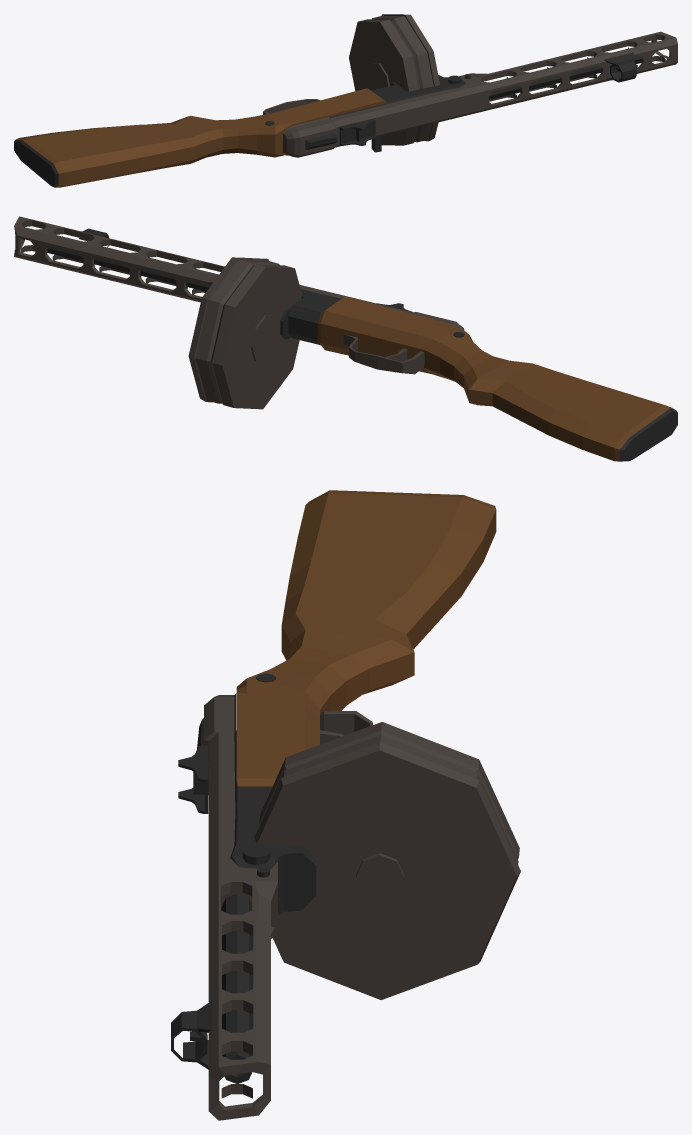
File: PPSH_3D.glb
3 views of the same model, one above another, from view 1: azimuth 30°, elevation 25°; view 2: azimuth 150°, elevation 25°; view 3: azimuth 270°, elevation 25° (orthographic). The views are drawn at different scales.
Parts seen in each view (by area): view 1: ppsh (1); view 2: ppsh (1); view 3: ppsh (1).
Boxes of the visible parts, x1,y1,x2,y2 form: ppsh (1): (14, 14, 677, 187); ppsh (1): (14, 216, 677, 461); ppsh (1): (171, 490, 520, 1120).
Size of the model in its own units: 0.8493 by 0.1728 by 0.2156.
Materials: 1 (1 with a texture image).
